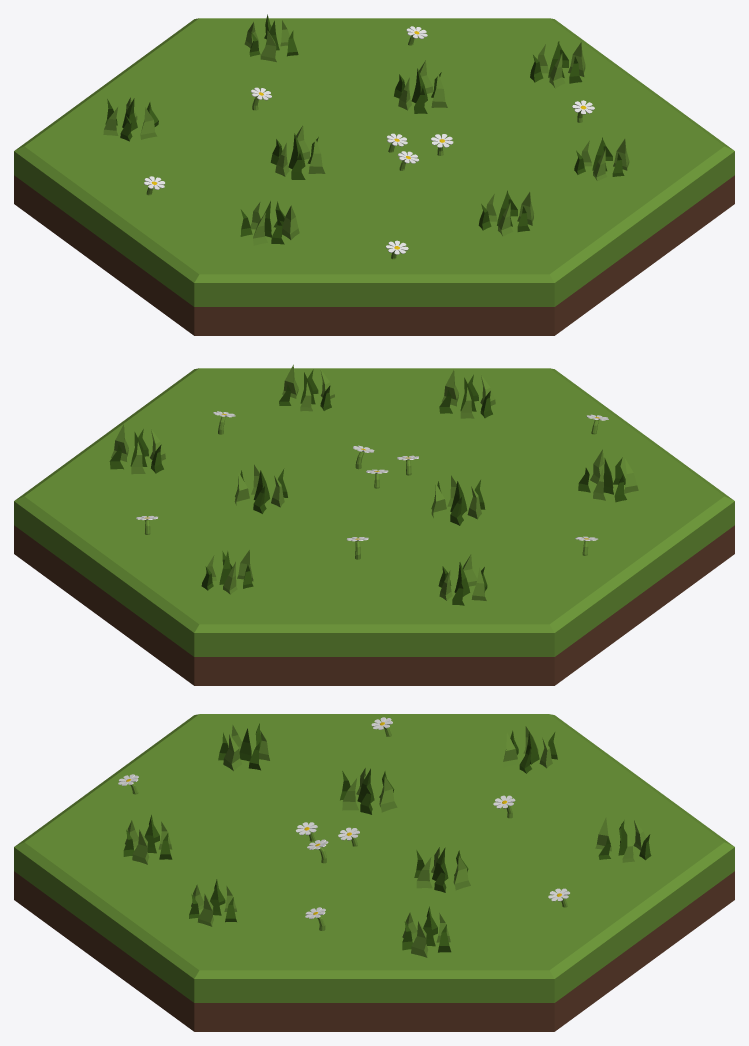
The model's file is grass2.obj.
3 views of the same model, one above another, from view 1: azimuth 30°, elevation 25°; view 2: azimuth 150°, elevation 25°; view 3: azimuth 270°, elevation 25° (orthographic).
Visible parts, largest first — view 1: Flower_Tile, Grass.003, Grass.001, Grass, Grass.007, Grass.006, Grass.005, Grass.002, Grass.004; view 2: Flower_Tile, Grass.003, Grass, Grass.001, Grass.006, Grass.007, Grass.005, Grass.002, Grass.004; view 3: Flower_Tile, Grass.001, Grass, Grass.003, Grass.006, Grass.007, Grass.005, Grass.002, Grass.004.
Boxes of the visible parts, x1,y1,x2,y2 form: Flower_Tile: (14,18,734,335); Grass.003: (240,201,299,245); Grass.001: (270,125,325,179); Grass: (530,41,585,88); Grass.007: (394,60,447,113); Grass.006: (478,190,533,236); Grass.005: (103,97,158,141); Grass.002: (574,137,629,181); Grass.004: (244,14,298,62); Flower_Tile: (14,368,734,685); Grass.003: (578,449,638,502); Grass: (109,424,165,474); Grass.001: (431,475,485,525); Grass.006: (439,370,495,418); Grass.007: (234,464,287,513); Grass.005: (438,554,487,605); Grass.002: (279,364,334,411); Grass.004: (201,550,253,594); Flower_Tile: (14,714,734,1031); Grass.001: (340,768,397,814); Grass: (402,906,451,957); Grass.003: (218,723,269,771); Grass.006: (123,815,172,864); Grass.007: (414,847,470,892); Grass.005: (503,726,557,773); Grass.002: (189,879,236,926); Grass.004: (595,817,651,862).
Size of the model in its own units: 1.7 by 0.2772 by 1.96.
1 material, 1 textured.
